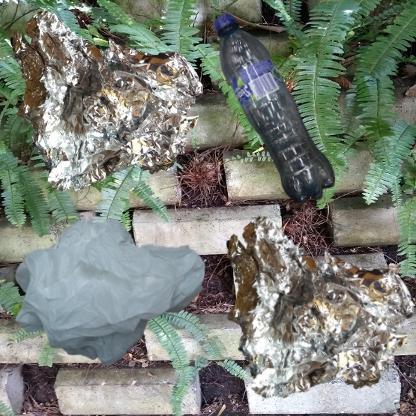aluminio: (213, 213, 416, 412), (10, 10, 203, 192)
bolsa: (10, 213, 213, 373)
botella: (213, 10, 336, 209)
